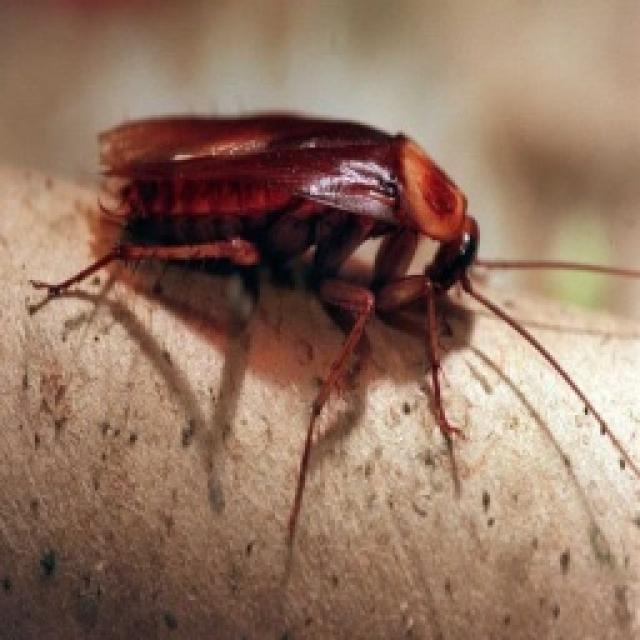cockroach: (47, 78, 584, 384)
